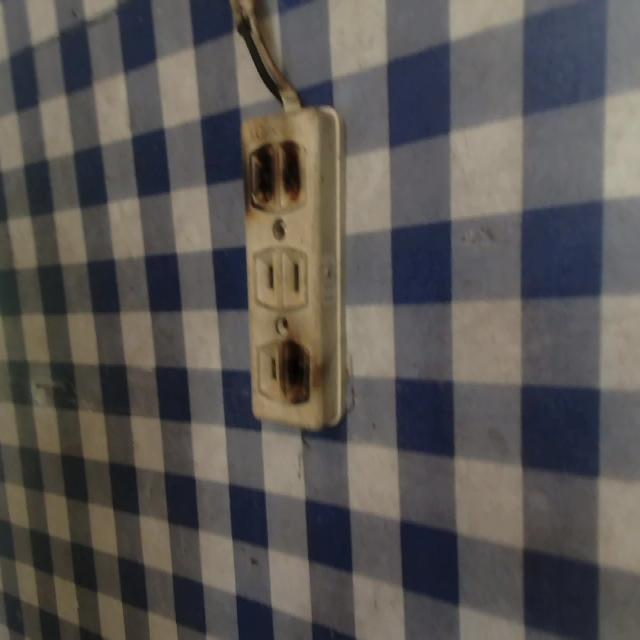-: (238, 137, 322, 220), (279, 334, 317, 414)
